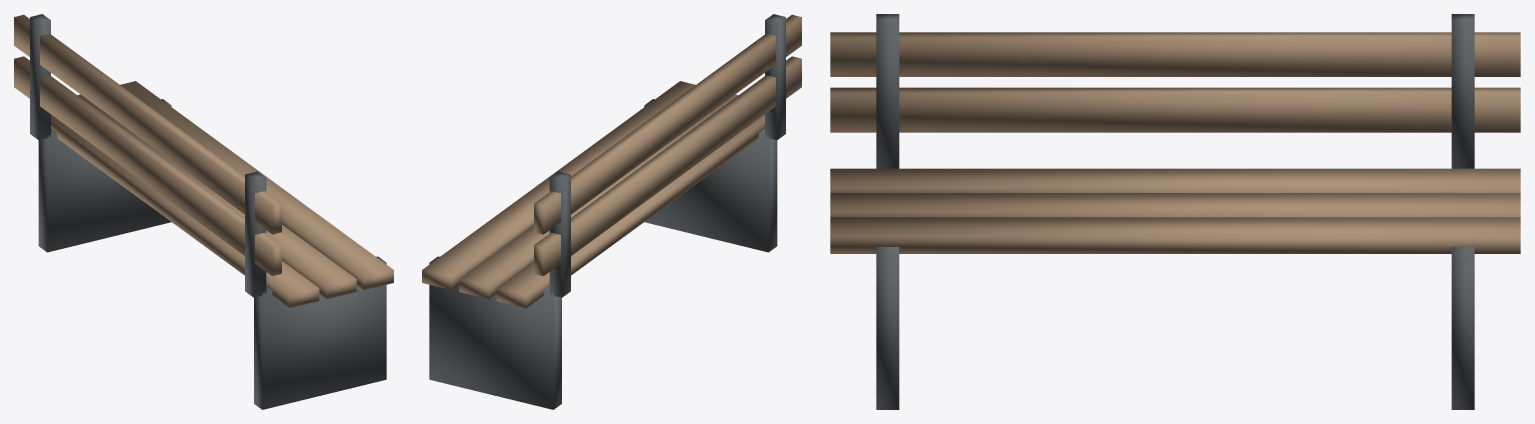
File: bench.glb
3 views of the same model, side by side, from view 1: azimuth 30°, elevation 25°; view 2: azimuth 150°, elevation 25°; view 3: azimuth 270°, elevation 25° (orthographic). The views are drawn at different scales.
Visible parts, largest first — view 1: bench_5, bench_3, bench_4, bench_7, bench_0, bench_2, bench_1, bench_6, bench_8; view 2: bench_7, bench_3, bench_4, bench_5, bench_0, bench_2, bench_1, bench_8, bench_6; view 3: bench_3, bench_4, bench_0, bench_1, bench_2, bench_5, bench_7, bench_6, bench_8.
Part boxes in pixels (x1,y1,x2,y2): bench_5: [254, 256, 386, 409]; bench_3: [14, 56, 281, 276]; bench_4: [14, 14, 281, 234]; bench_7: [38, 99, 171, 252]; bench_0: [120, 81, 393, 289]; bench_2: [51, 114, 319, 308]; bench_1: [77, 94, 356, 298]; bench_6: [245, 171, 266, 297]; bench_8: [30, 14, 50, 140]; bench_7: [429, 256, 561, 409]; bench_3: [534, 56, 801, 276]; bench_4: [534, 14, 801, 234]; bench_5: [644, 99, 777, 252]; bench_0: [422, 81, 695, 289]; bench_2: [496, 114, 764, 308]; bench_1: [459, 94, 738, 298]; bench_8: [549, 171, 570, 297]; bench_6: [765, 14, 785, 140]; bench_3: [830, 87, 1520, 132]; bench_4: [830, 32, 1520, 76]; bench_0: [830, 217, 1520, 253]; bench_1: [830, 193, 1520, 217]; bench_2: [830, 168, 1520, 192]; bench_5: [876, 247, 899, 409]; bench_7: [1451, 247, 1474, 409]; bench_6: [876, 14, 899, 168]; bench_8: [1451, 14, 1474, 168].
Size of the model in its own units: 0.535 by 0.89 by 1.8.
